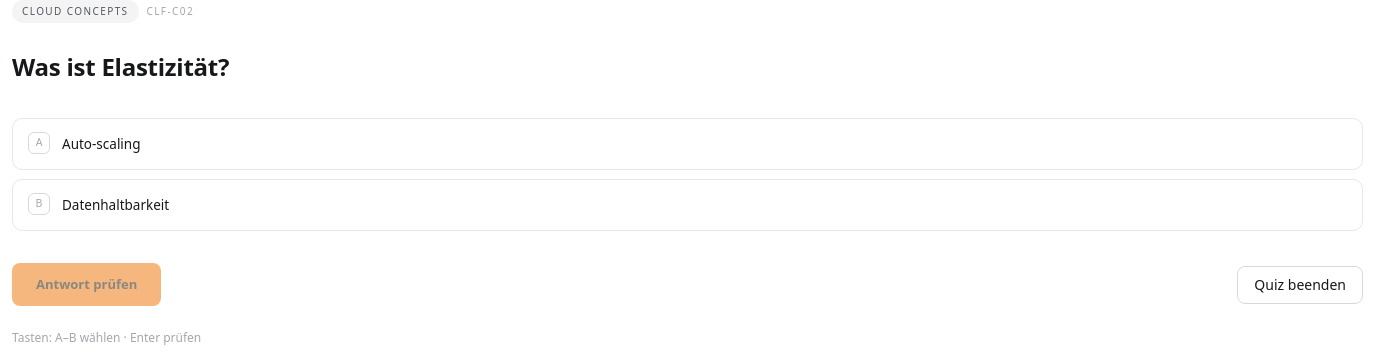
Test: QuestionCard (behaviour preserved through re-skin) › check button is disabled until an option is selected
Expected: the button "Antwort prüfen" is disabled, [12, 263, 161, 306]
Click the button "A Auto-scaling" at (101, 144), box [12, 118, 1363, 170]
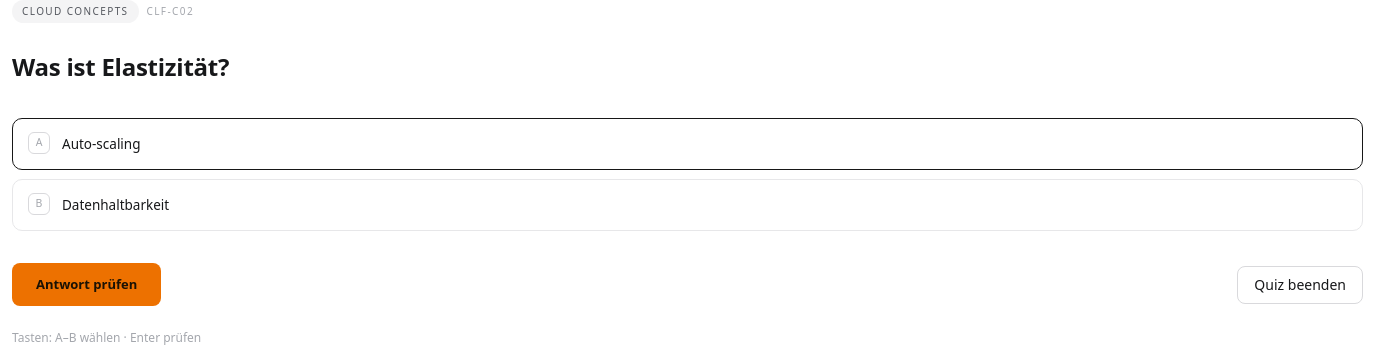
Expected: the button "Antwort prüfen" is enabled, [12, 263, 161, 306]
